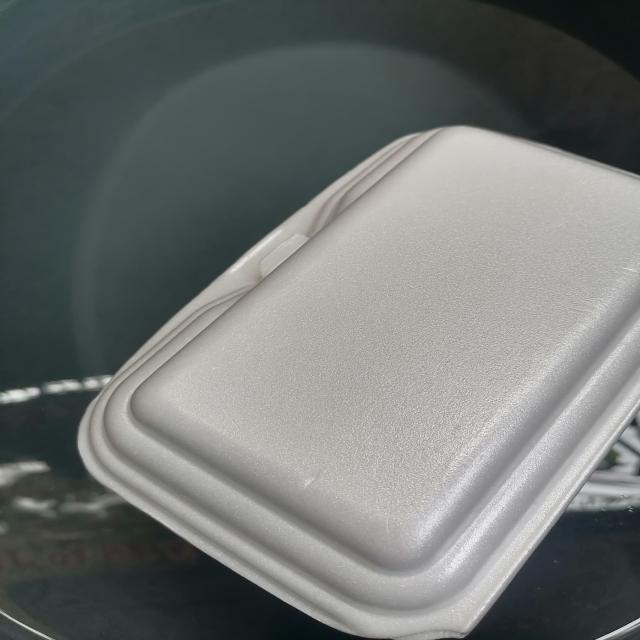Styrofoam Container: (78, 127, 640, 640)
